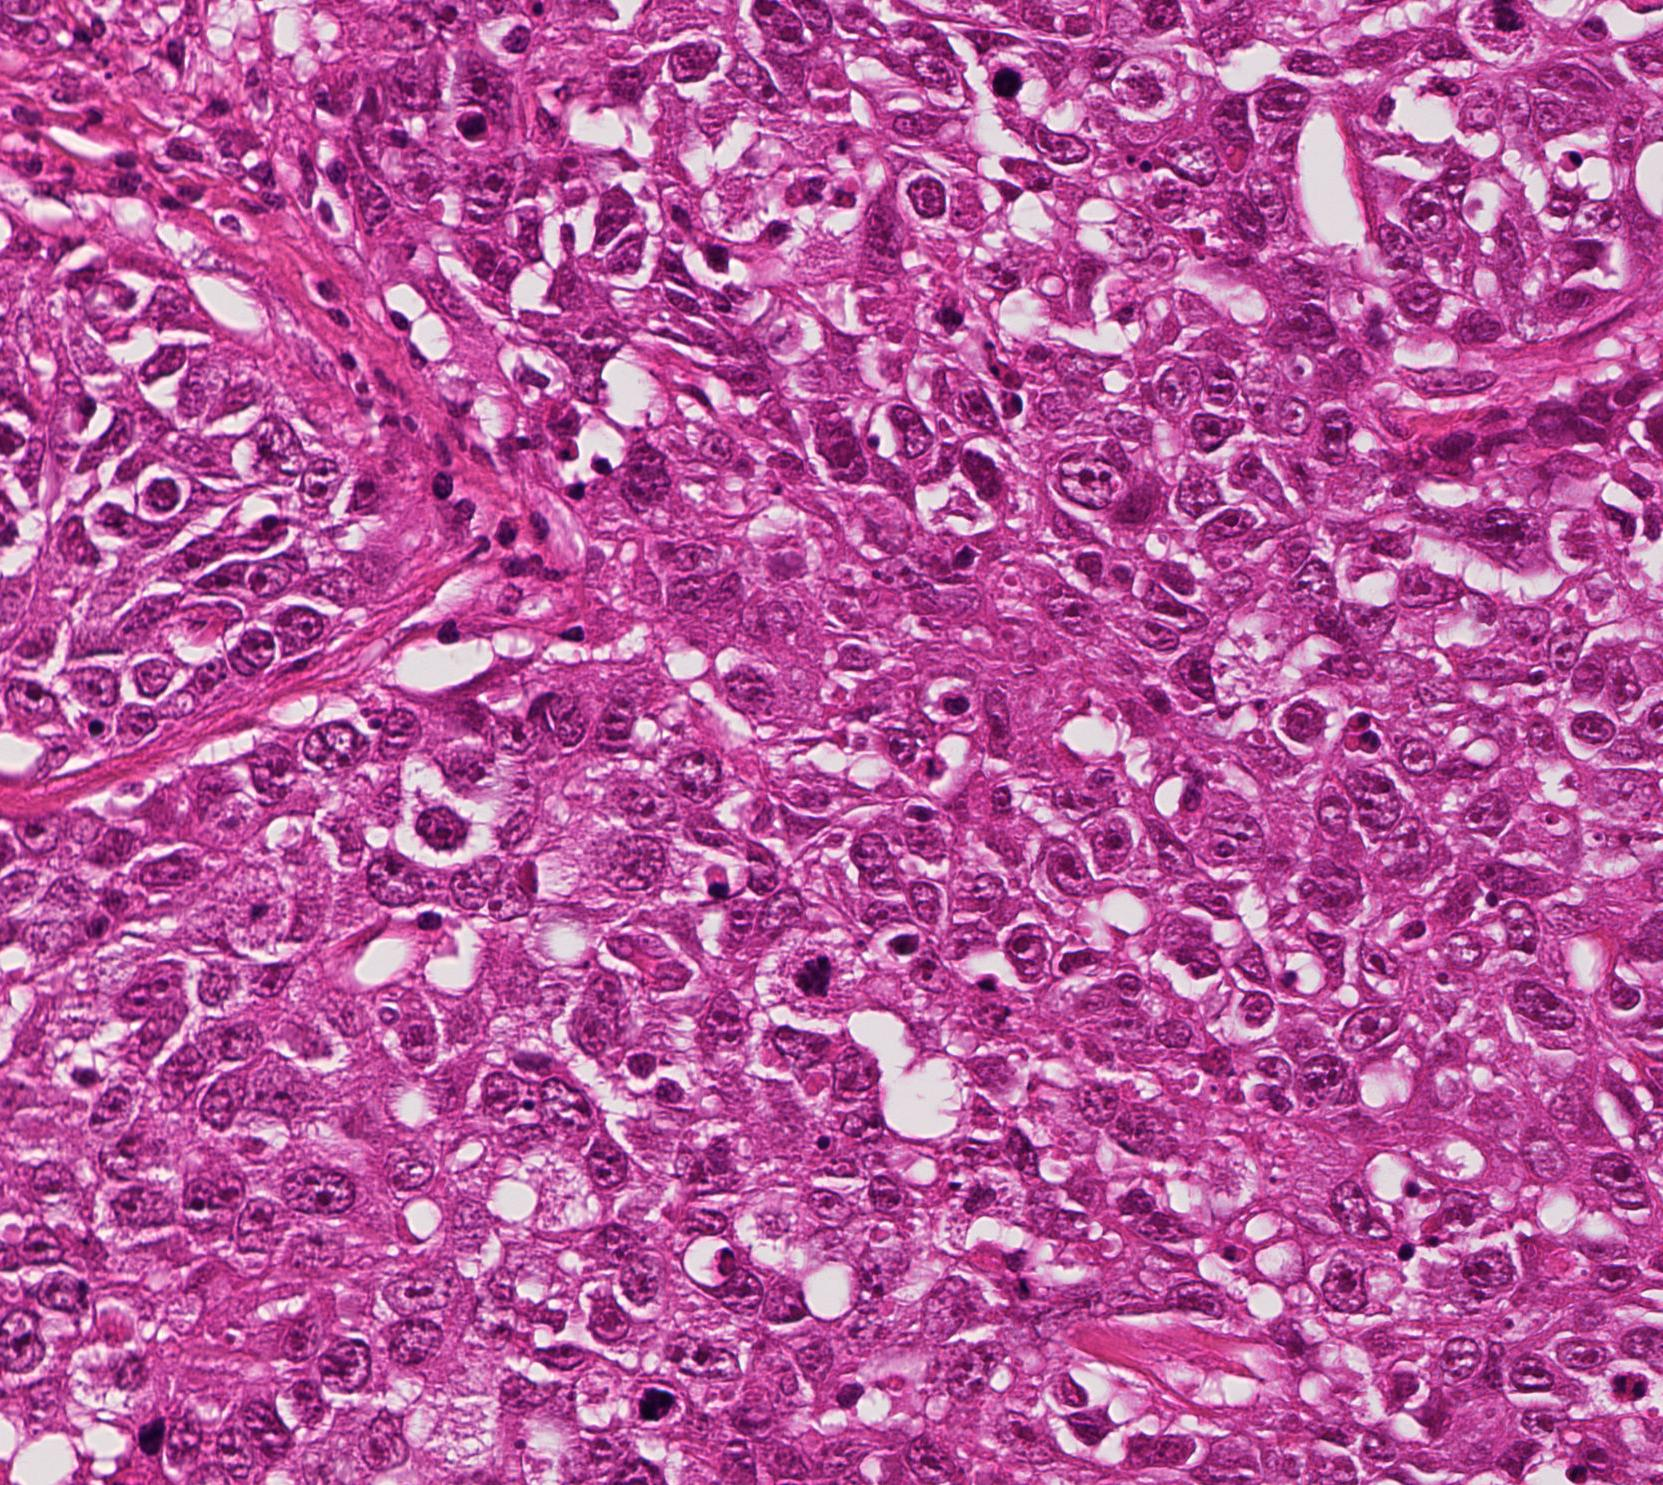mitosis: (618, 1370, 678, 1431), (786, 945, 846, 1003), (1477, 0, 1535, 56)
